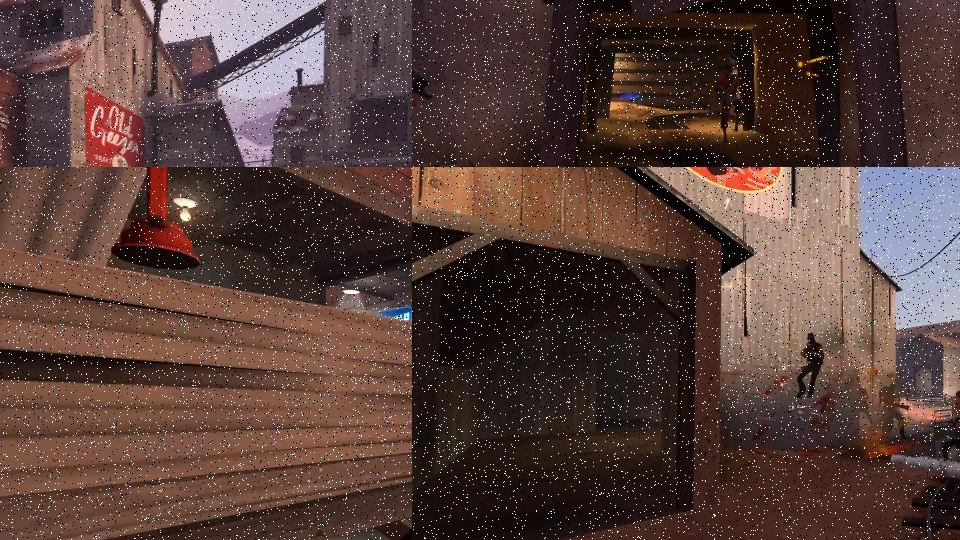Enemy: (713, 64, 745, 145), (868, 383, 911, 440), (793, 331, 825, 400), (941, 381, 960, 483)
